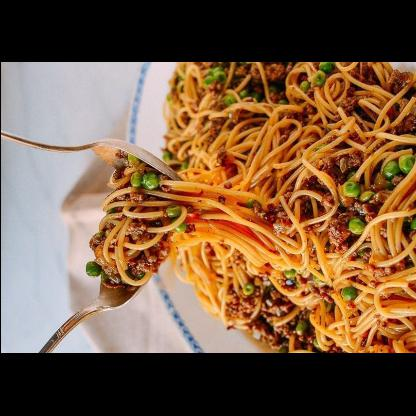spaghetti: (84, 64, 414, 352)
